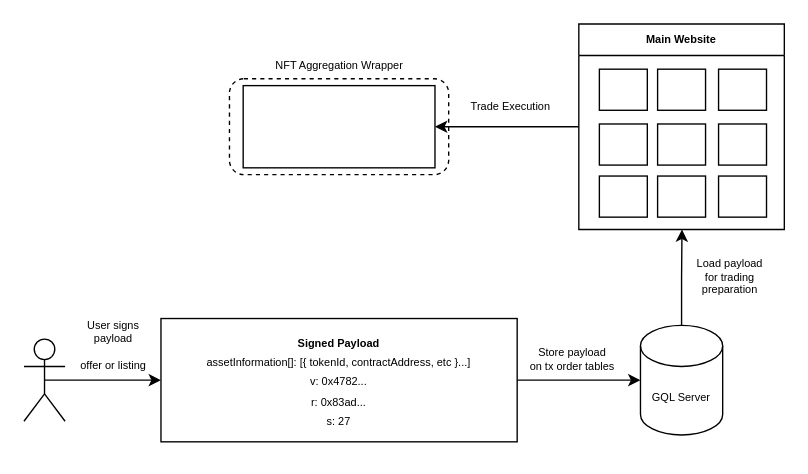
This 808x474 diagram has some shape labels left out. Here are the shapes that lost their labels. From the top down, the box of each, then its label:
(242, 84, 435, 168): NFT.com NFT Trading Contracts
(23, 338, 65, 421): Actor
